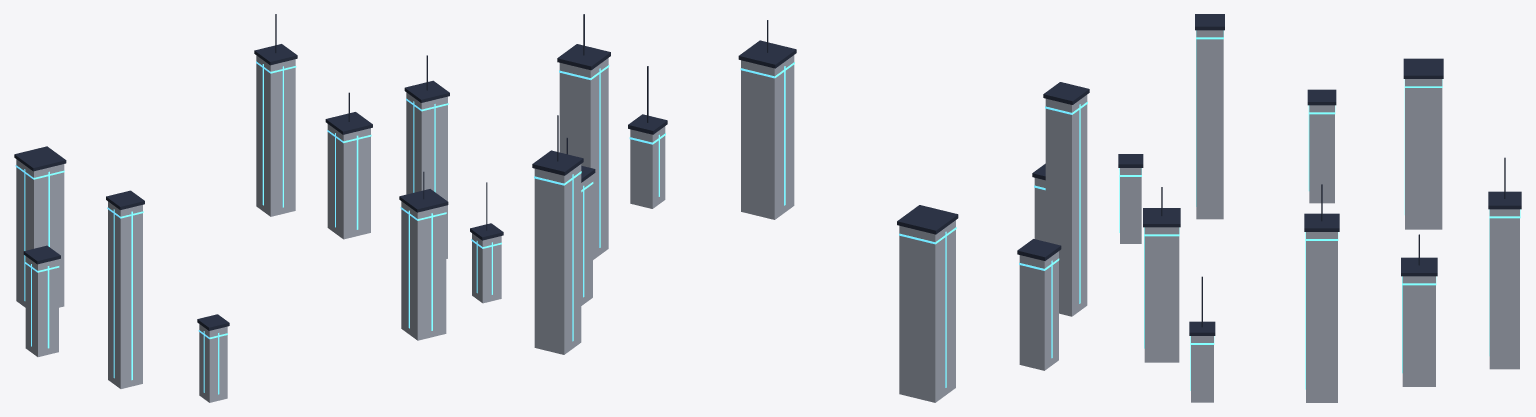
The picture shows the model from 3 angles, left to right: view 1: azimuth 30°, elevation 25°; view 2: azimuth 150°, elevation 25°; view 3: azimuth 270°, elevation 25°; orthographic projection. The views are drawn at different scales.
Parts seen in each view (by area): view 1: nexo_spires_arcade.lod0; view 2: nexo_spires_arcade.lod0; view 3: nexo_spires_arcade.lod0.
Boxes of the visible parts, bbox=[...] form: nexo_spires_arcade.lod0: bbox=[14, 14, 503, 402]; nexo_spires_arcade.lod0: bbox=[532, 14, 1089, 402]; nexo_spires_arcade.lod0: bbox=[1118, 14, 1521, 402].
Size of the model in its own units: 26.37 by 12.3 by 21.24.
